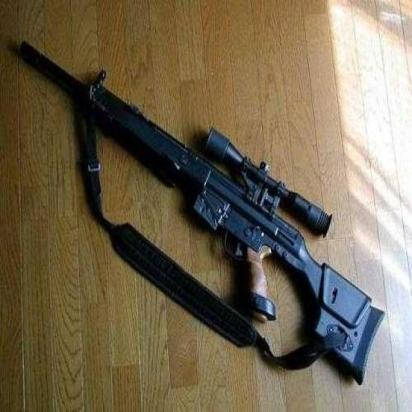Gun: (10, 17, 392, 392)
